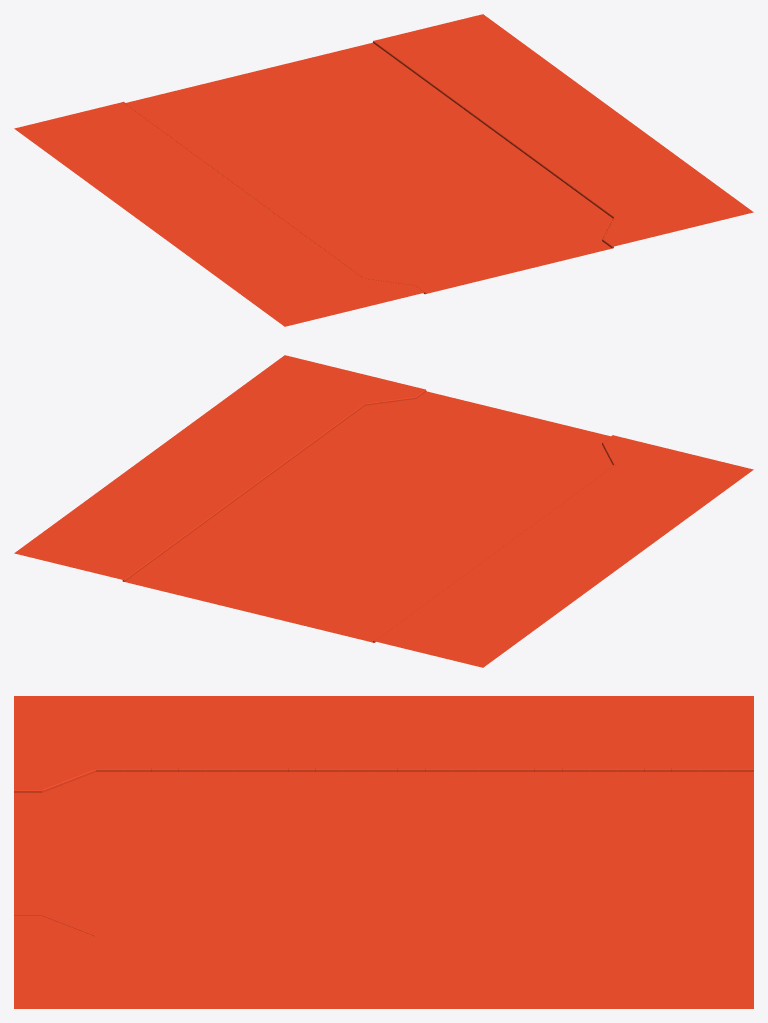
File: SM_MainRoad_Stop_Start_30x30_City.fbx
The picture shows the model from 3 angles, top to bottom: view 1: azimuth 30°, elevation 25°; view 2: azimuth 150°, elevation 25°; view 3: azimuth 270°, elevation 25°; orthographic projection. The views are drawn at different scales.
Visible parts, largest first — view 1: SM_MainRoad_Stop_Start_30x30_City; view 2: SM_MainRoad_Stop_Start_30x30_City; view 3: SM_MainRoad_Stop_Start_30x30_City.
Boxes of the visible parts, <box> form: SM_MainRoad_Stop_Start_30x30_City: <box>14,14,753,326</box>; SM_MainRoad_Stop_Start_30x30_City: <box>14,355,753,667</box>; SM_MainRoad_Stop_Start_30x30_City: <box>14,696,753,1008</box>.
Bounding box in the file's own units: 30 × 0.1149 × 30.
